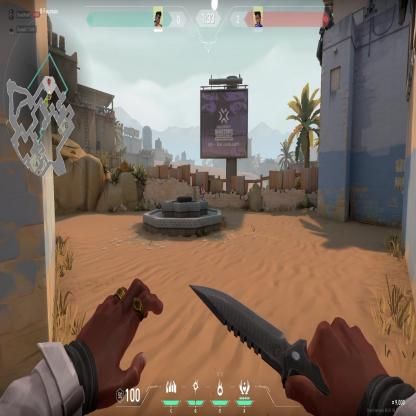enemy: (200, 183, 206, 201)
